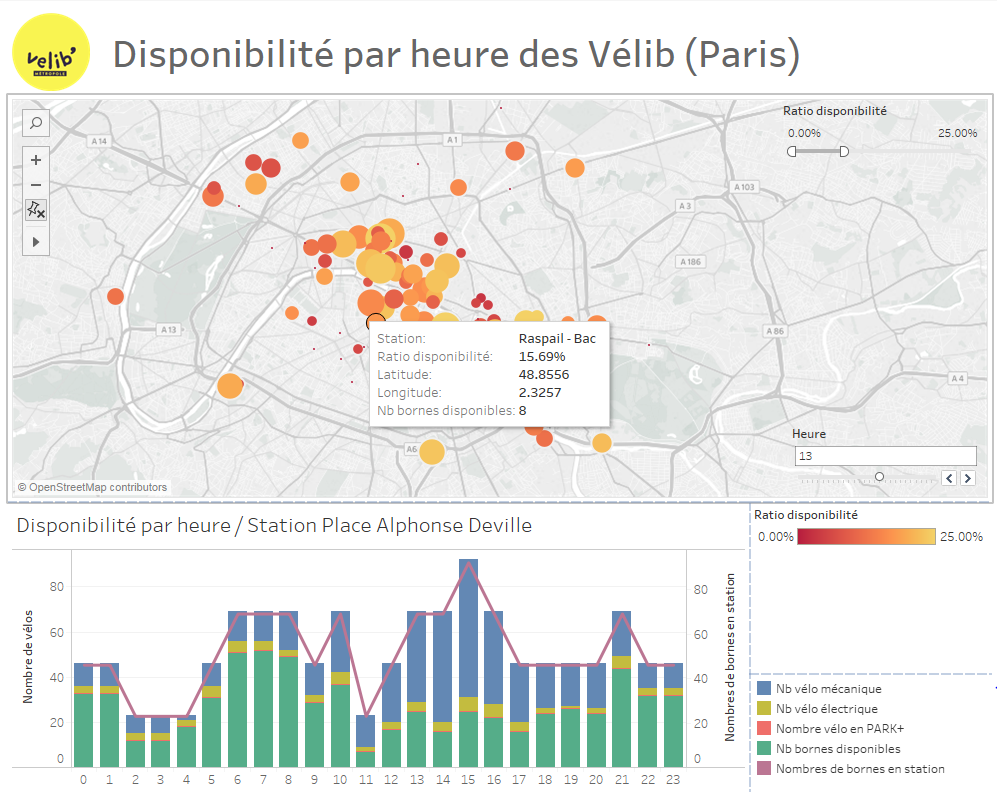

This screenshot's page, from the dashboard's own definition file:
{"tool":"tableau","page":{"name":"Disponibilité","canvas":[1000,800],"ordinal":0},"visuals":[{"type":"image","param":"Image/Vélib.png","box":[8,8,97,86]},{"type":"text","box":[105,8,887,86]},{"type":"worksheet","title":"Carte Disponibilité < 25%","mark":"Automatic","rows":["geo - Split 1 - Split 1"],"cols":["geo - Split 2 - Split 1"],"box":[8,94,762,348]},{"type":"text","box":[770,94,222,34]},{"type":"worksheet","title":"KPI","mark":"Pie","rows":["Number of Records","Number of Records"],"box":[770,128,222,236]},{"type":"legend","title":"Carte Disponibilité < 25%","param":"[federated.05kfdsd1u8ff001eanpx80kpy1b0].[avg:Calculation_248542442228228096:qk]","box":[770,364,222,78]},{"type":"worksheet","title":"Heures","mark":"Text","rows":["Number of Records","Number of Records"],"cols":["Timer"],"box":[8,442,984,66]},{"type":"worksheet","title":"Disponibilité par heure","mark":"Bar","rows":["Nombres de bornes en station"],"cols":["Timer"],"box":[8,508,782,284]},{"type":"filter","title":"Carte Disponibilité < 25%","param":"[federated.05kfdsd1u8ff001eanpx80kpy1b0].[none:Calculation_248542442228228096:qk","box":[790,508,202,92]},{"type":"legend","title":"Disponibilité par heure","param":"[federated.05kfdsd1u8ff001eanpx80kpy1b0].[:Measure Names]","box":[790,600,202,133]}]}

Visuals, with their boxes in screenshot pixels (x1, y1, x2, y2), scaled from the page's 1000x800 canvas onto the 997x792 screenshot:
image: 8/8/105/93
text: 105/8/989/93
"Carte Disponibilité < 25%" worksheet: 8/93/768/438
text: 768/93/989/127
"KPI" worksheet (Pie marks): 768/127/989/360
"Carte Disponibilité < 25%" legend: 768/360/989/438
"Heures" worksheet (Text marks): 8/438/989/503
"Disponibilité par heure" worksheet (Bar marks): 8/503/788/784
"Carte Disponibilité < 25%" filter: 788/503/989/594
"Disponibilité par heure" legend: 788/594/989/726
